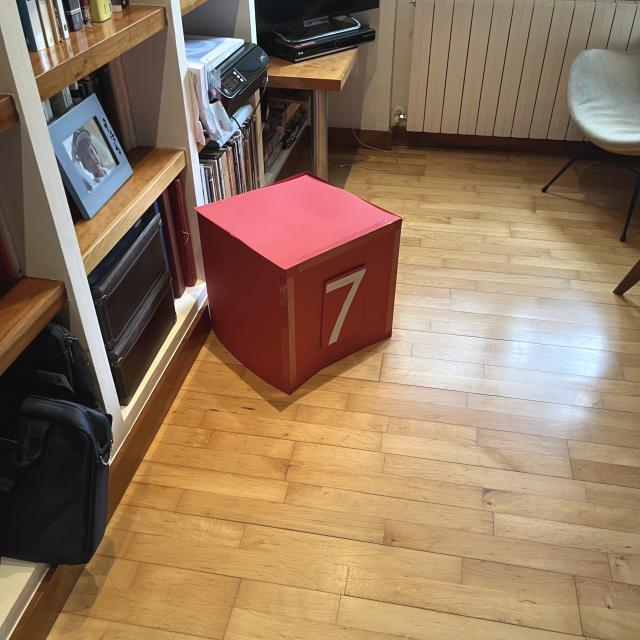box: (190, 168, 406, 396)
